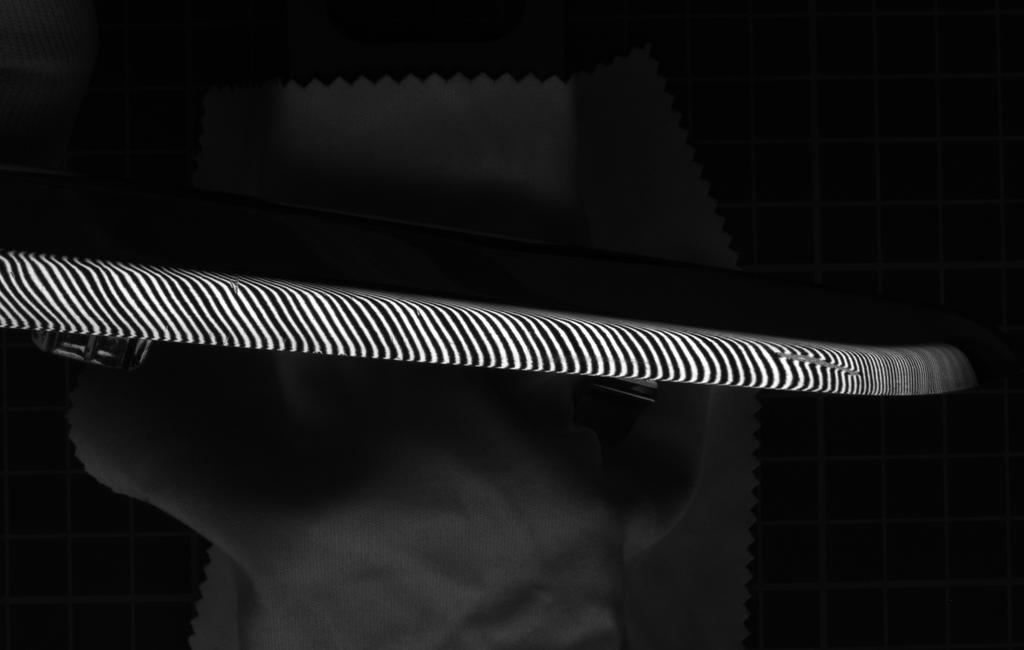Scratch: (766, 347, 877, 383)
